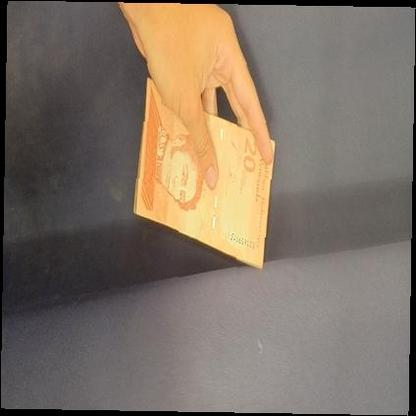twenty-front-vef: (132, 78, 276, 268)
